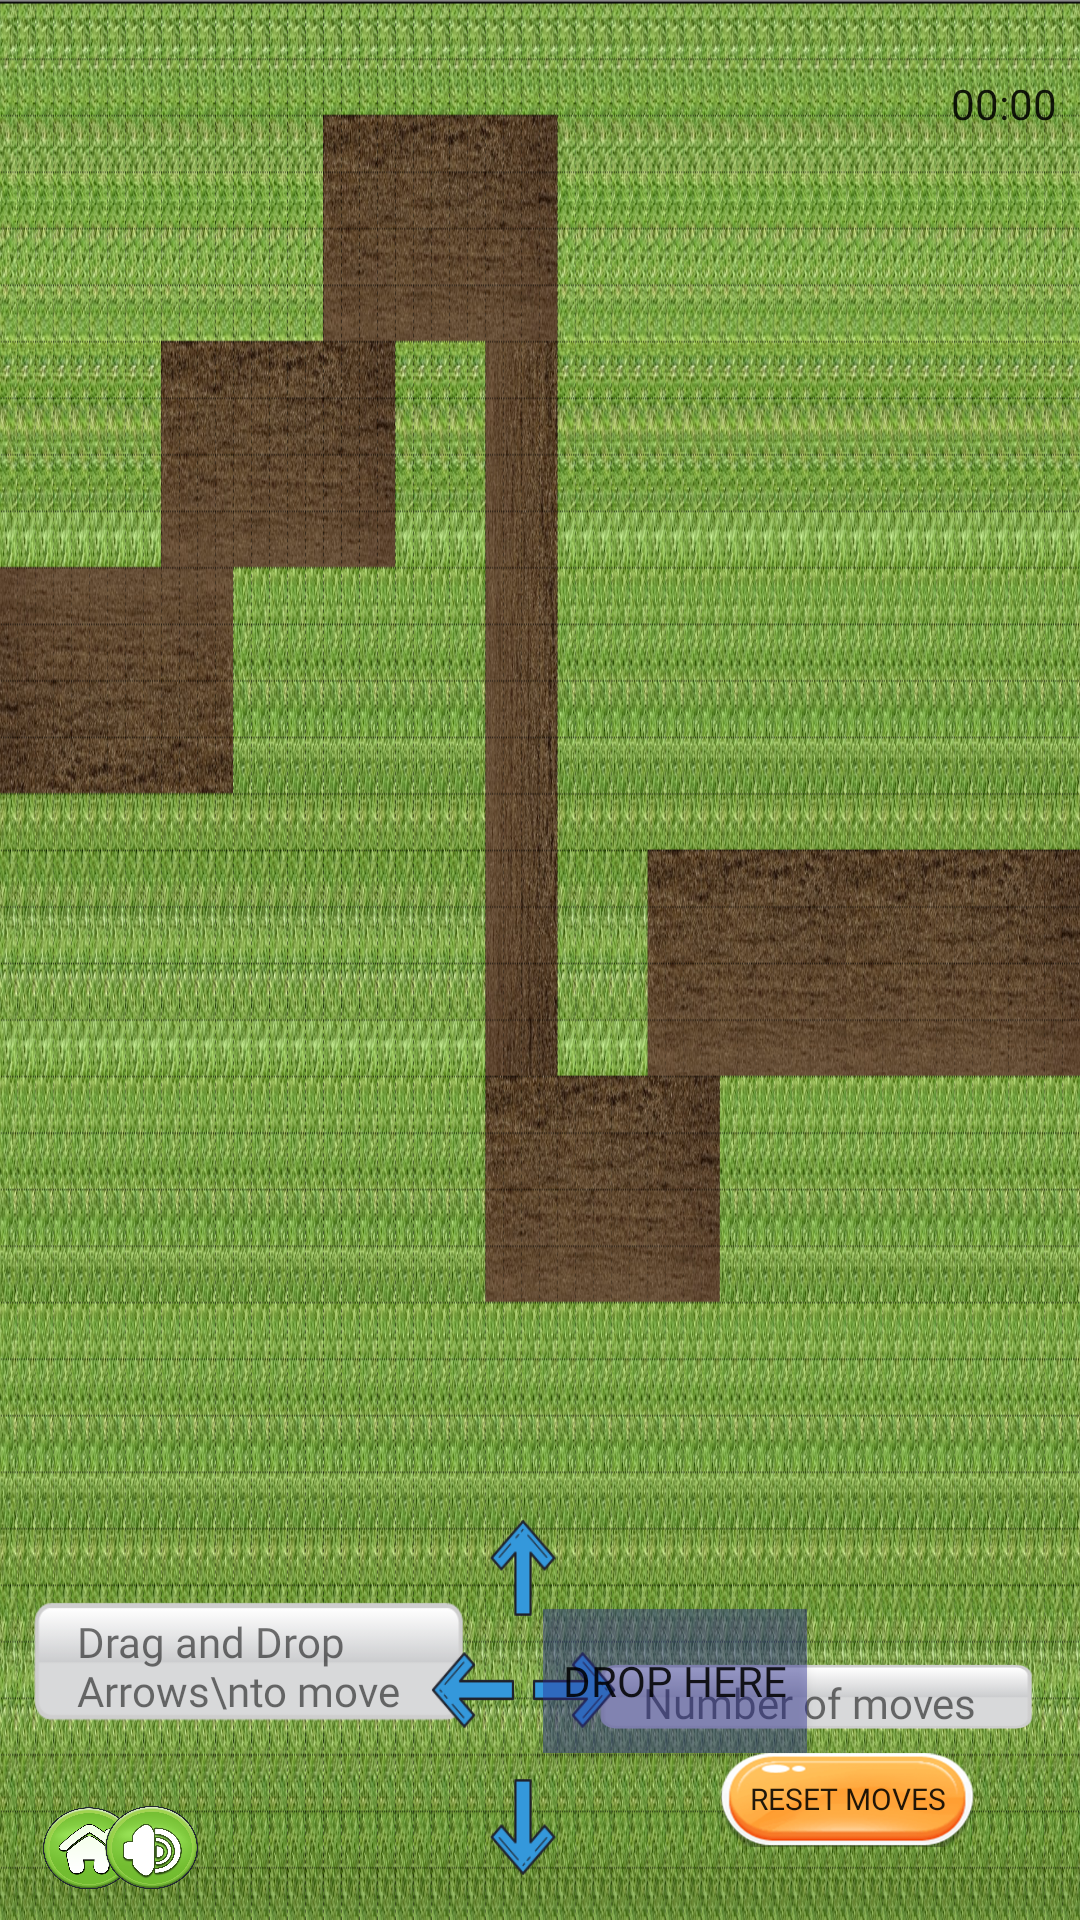

Icon click points for this 1080×1920 phone screenshot, format point (x, y):
arrow down: point (523, 1827)
arrow left: point (473, 1690)
arrow up: point (523, 1568)
